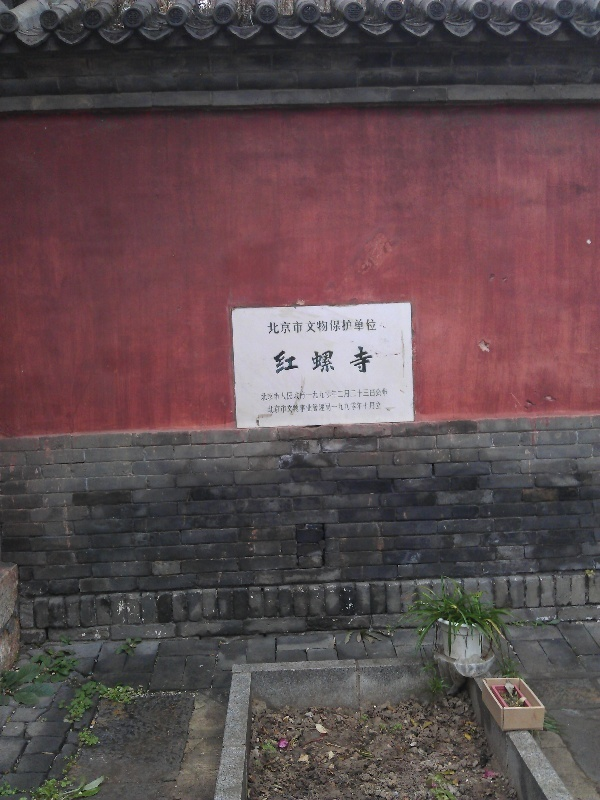text: (273, 346, 288, 378), (289, 346, 304, 378), (305, 346, 320, 378), (321, 346, 336, 378), (337, 346, 352, 378), (353, 346, 368, 378), (273, 318, 288, 335), (289, 318, 304, 335), (305, 318, 320, 335), (321, 318, 336, 335), (337, 318, 352, 335), (353, 318, 368, 335), (273, 387, 288, 402), (289, 387, 304, 402), (305, 387, 320, 402), (321, 387, 336, 402), (337, 387, 352, 402), (353, 387, 368, 402), (369, 387, 384, 402), (273, 401, 288, 414), (289, 401, 304, 414), (305, 401, 320, 414), (321, 401, 336, 414), (337, 401, 352, 414), (353, 401, 368, 414), (369, 401, 384, 414), (369, 346, 375, 378), (261, 387, 272, 402), (369, 318, 378, 335), (268, 318, 272, 335), (267, 401, 272, 414), (385, 387, 389, 402), (271, 346, 272, 378)
